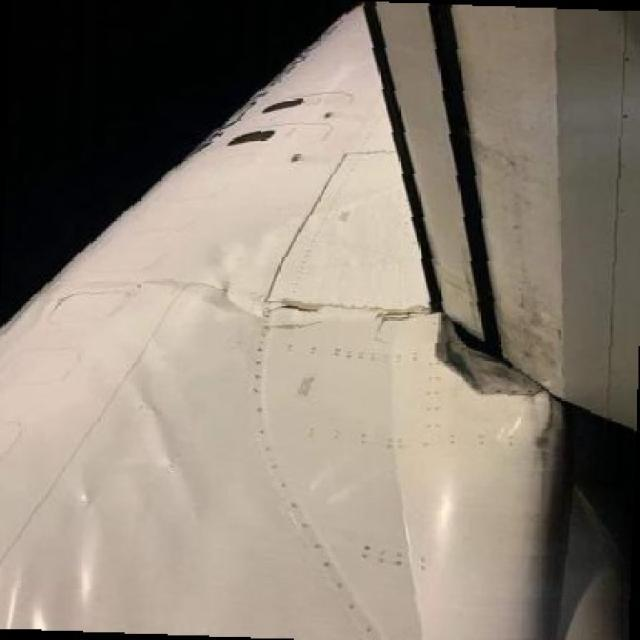dent: (125, 386, 185, 509), (68, 485, 110, 614), (180, 249, 253, 317), (2, 569, 50, 631)
